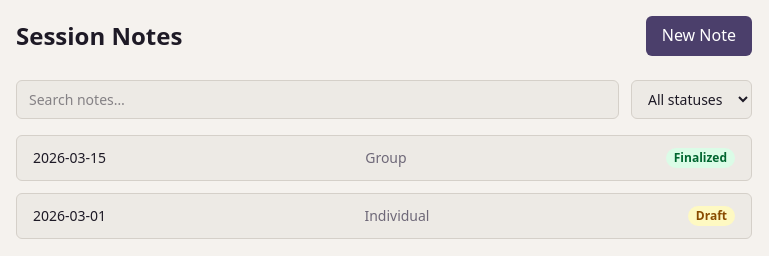
Scenario: Session history page › shows empty state when search has no results
Type "zzznomatch" into the field with placeholder "Search notes…" at (318, 100), box [16, 80, 619, 119]
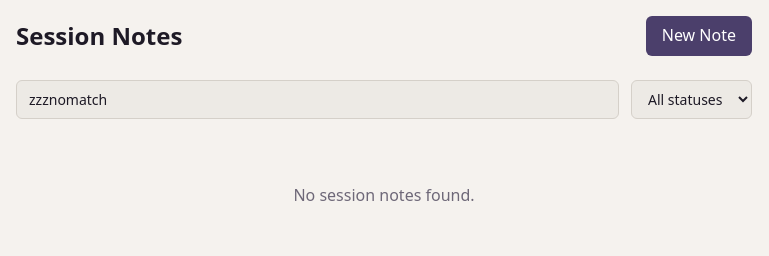
Check: the text "No session notes found." is shown, box [293, 184, 475, 206]
